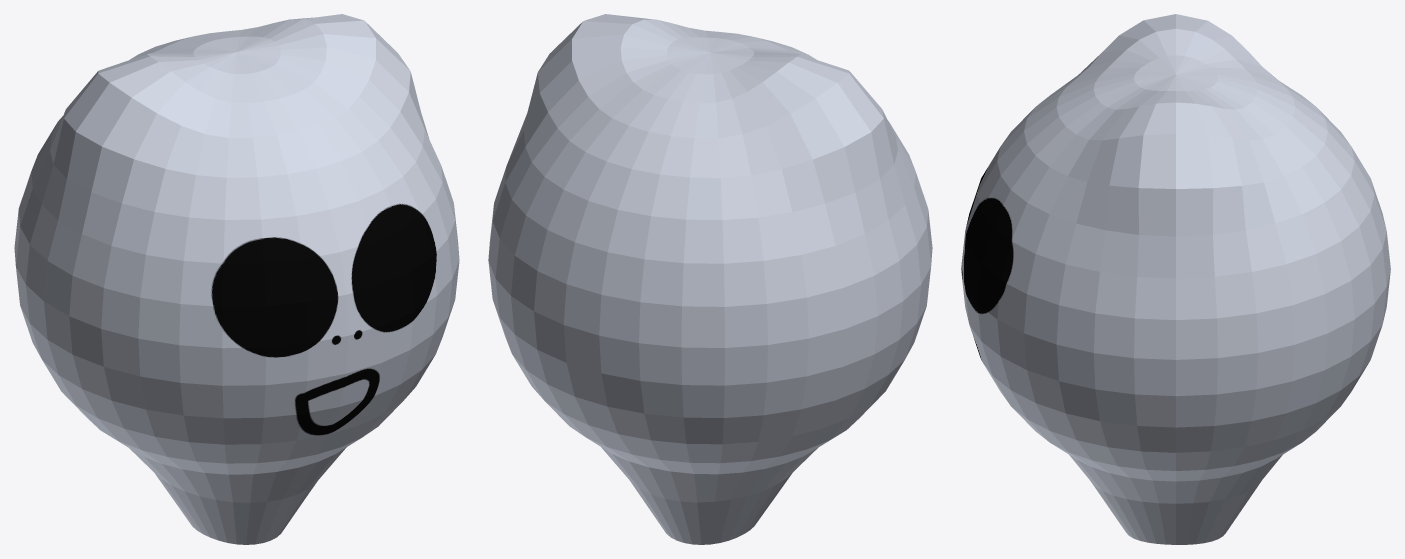
Rendered from monkey.fbx.
The picture shows the model from 3 angles, left to right: view 1: azimuth 30°, elevation 25°; view 2: azimuth 150°, elevation 25°; view 3: azimuth 270°, elevation 25°; orthographic projection. The views are drawn at different scales.
Visible parts, largest first — view 1: Sphere; view 2: Sphere; view 3: Sphere.
Part boxes in pixels (bbox=[...]): Sphere: bbox=[14, 14, 459, 544]; Sphere: bbox=[488, 14, 932, 544]; Sphere: bbox=[961, 14, 1390, 544].
Bounding box in the file's own units: 200 × 242 × 200.
